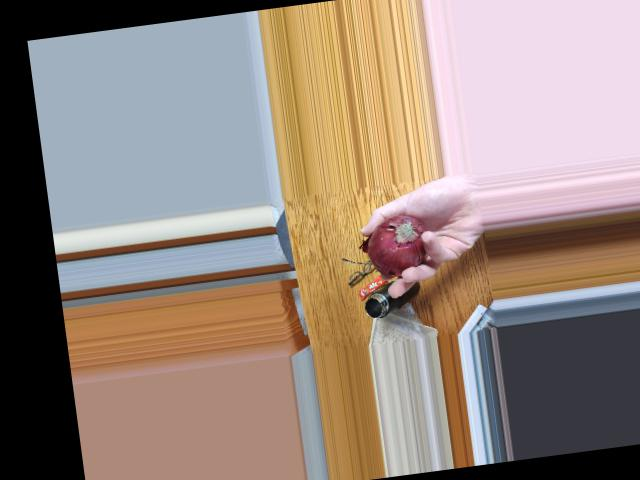onion: (364, 215, 423, 277)
